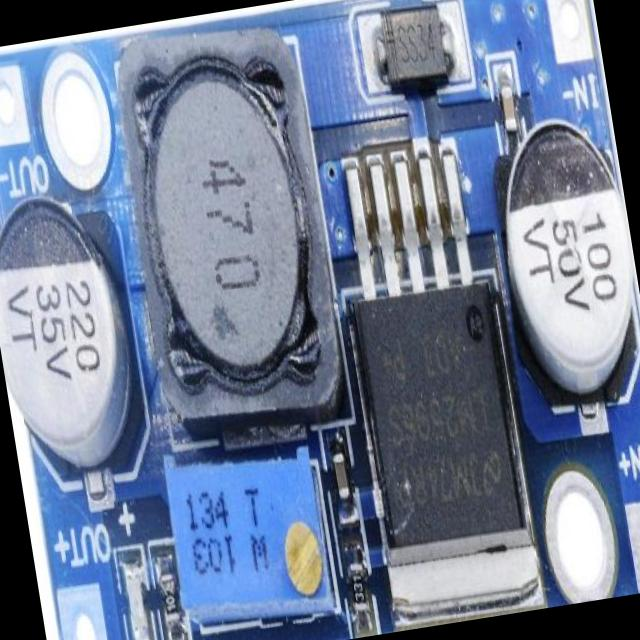IC: (326, 141, 535, 582)
capacitor: (486, 109, 640, 414), (0, 198, 151, 486), (490, 78, 520, 146), (328, 447, 351, 508)
diode: (372, 5, 461, 91)
potentiometer: (166, 440, 344, 638)
resistor: (153, 541, 180, 640), (344, 554, 370, 630)
